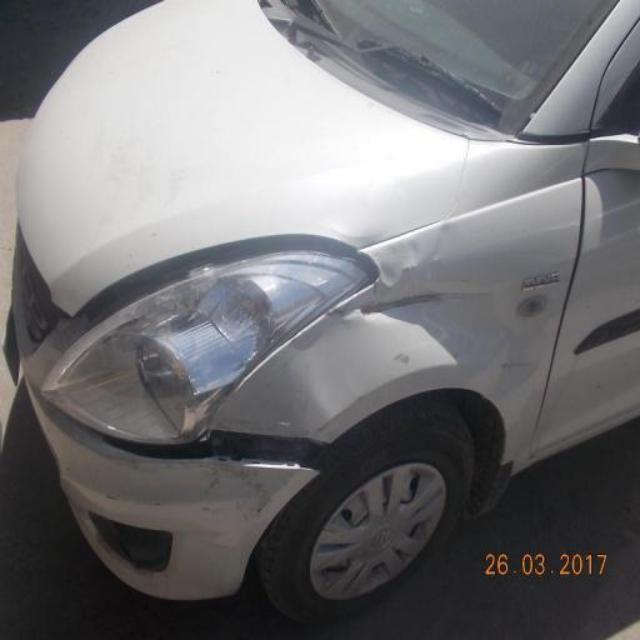dent: (373, 260, 503, 367)
dislocated part: (74, 232, 382, 343), (68, 417, 338, 475)
scratch: (335, 290, 496, 319)
